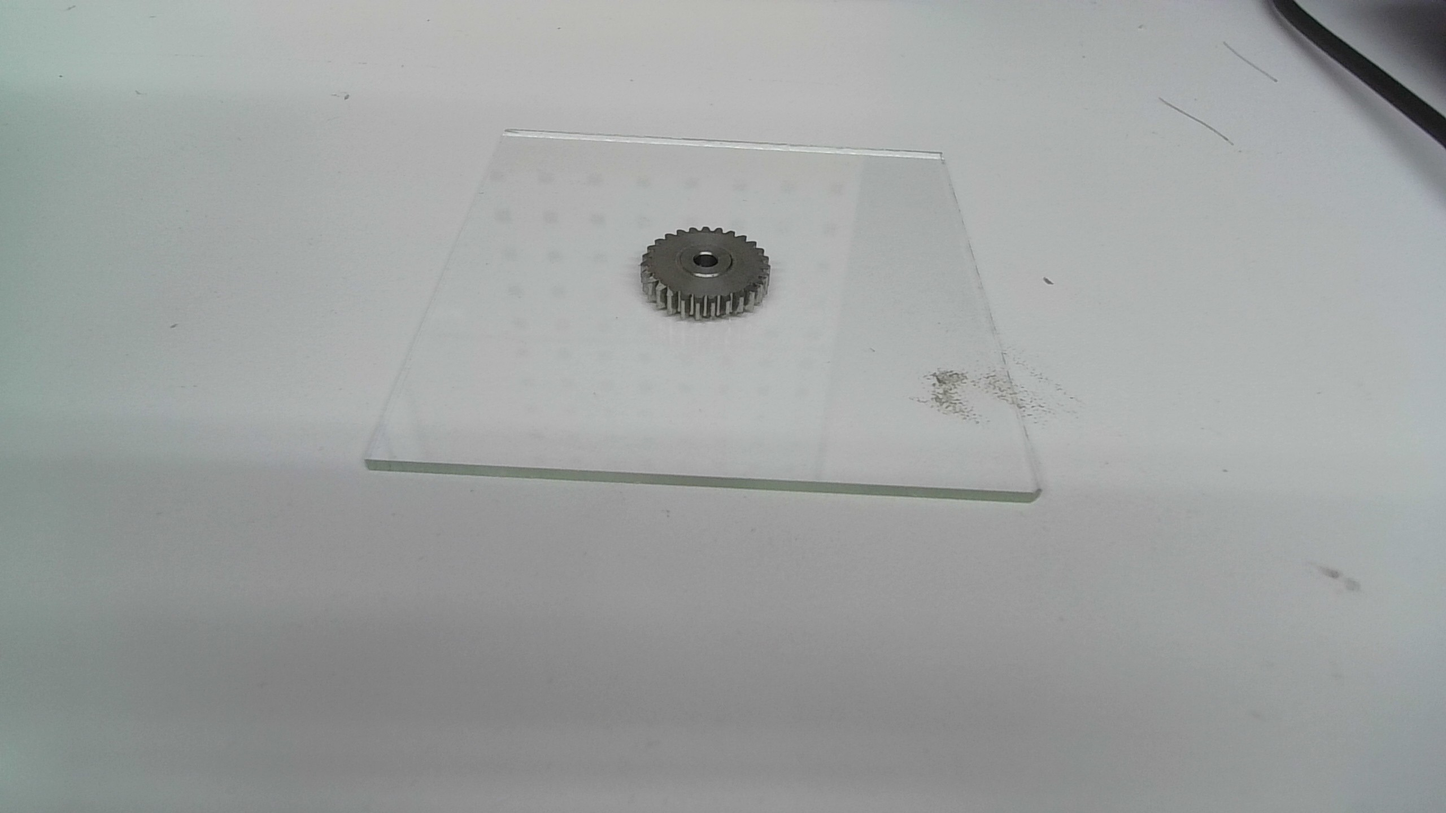gear: (638, 225, 773, 323)
